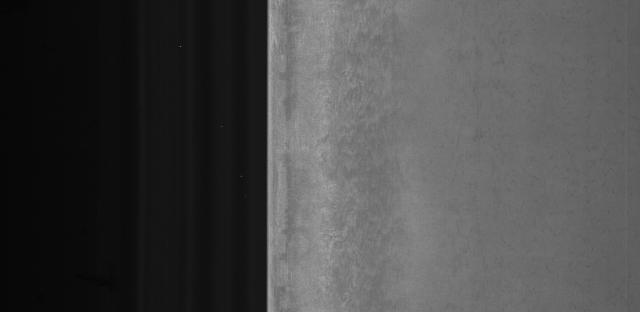silk_spot: (334, 79, 402, 311)
